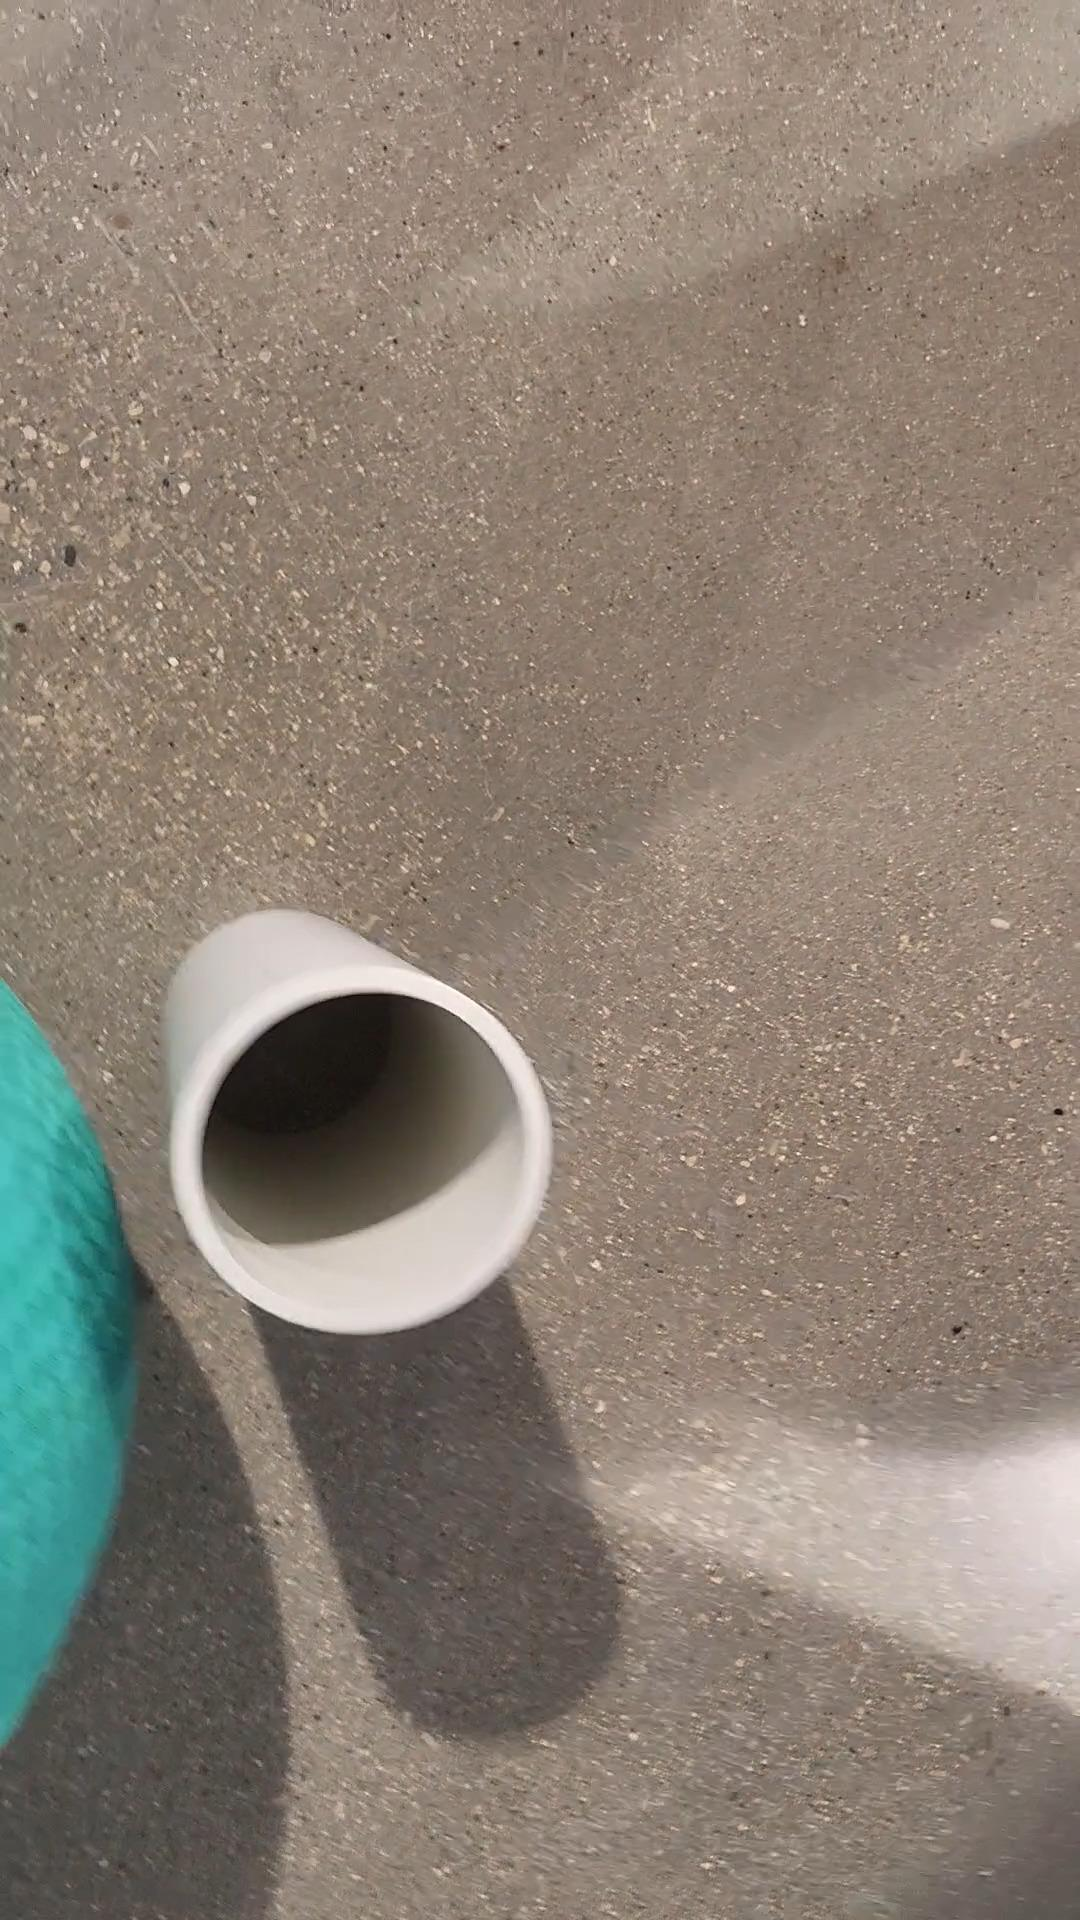algae: (0, 971, 145, 1775)
coral: (160, 902, 555, 1337)
